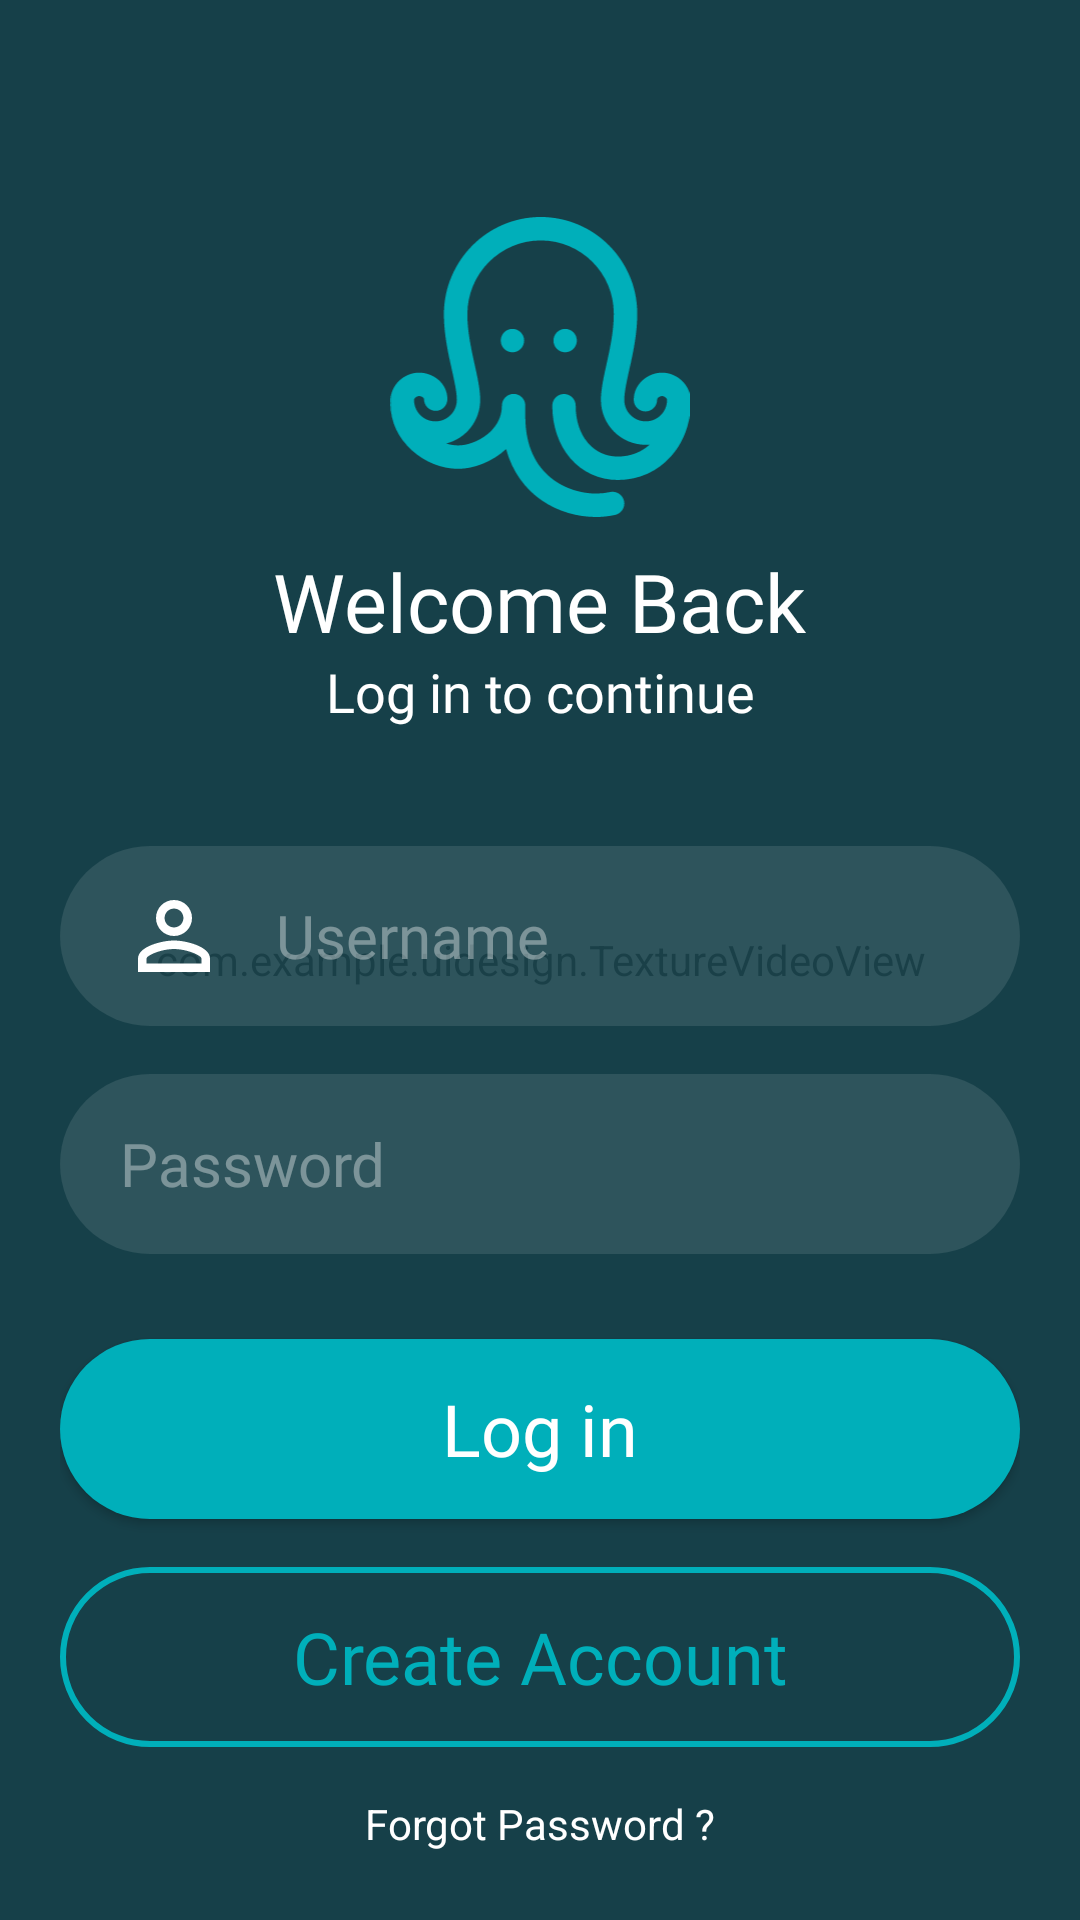

Where to tap for icons on this 1080px×1920px app screen, as (x=x, y=y):
octopus: (x=540, y=367)
